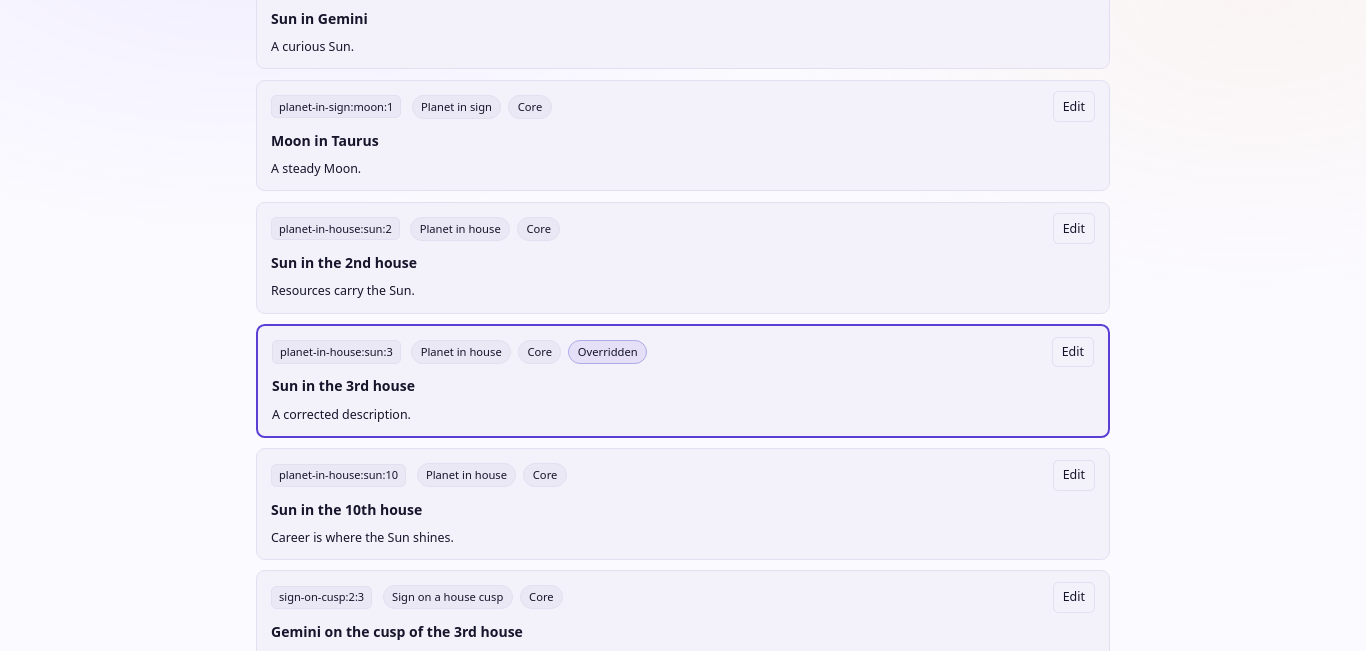
Scenario: CorpusOverridesPanel shows what an entry means (#428) › names the entry in the reset confirmation, with its key
The width and height of the screenshot is (1366, 651).
(page scrolled)
Click the button "Edit" in the row of "planet-in-house:sun:3" at (1073, 352), box left=1052, top=336, right=1094, bottom=367
(page scrolled)
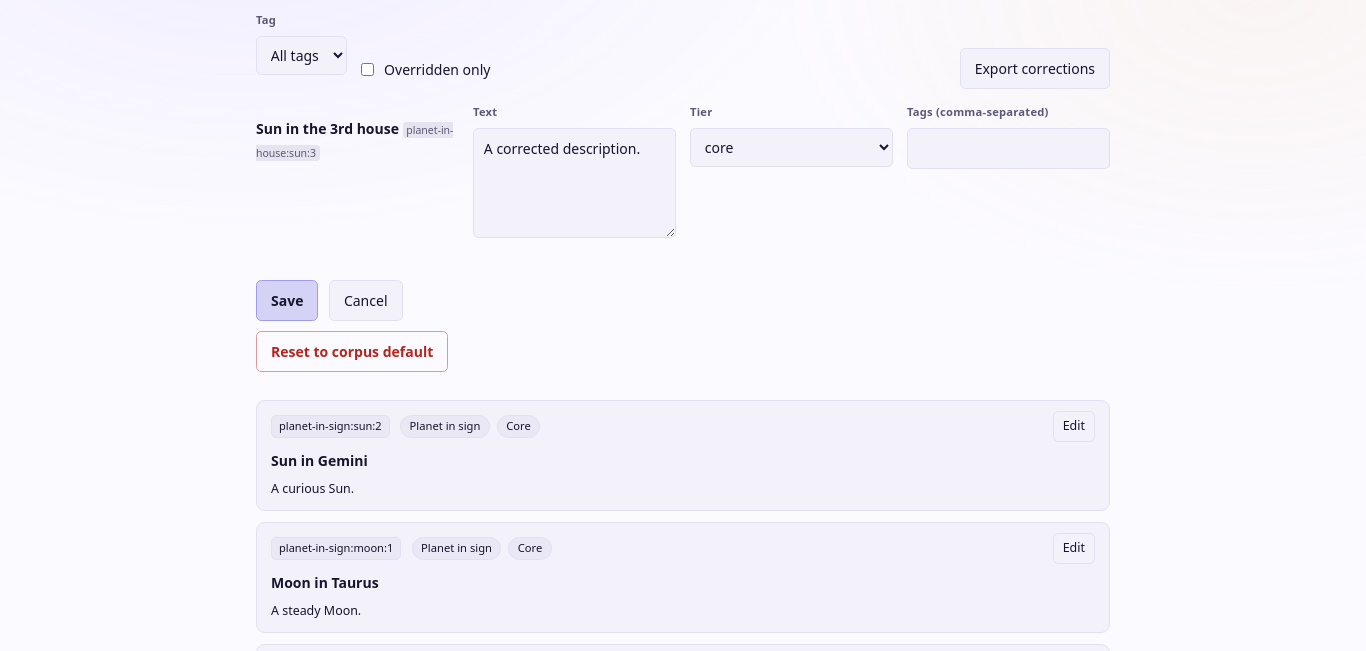
Click the button "Reset to corpus default" at (352, 351), box left=256, top=331, right=448, bottom=372
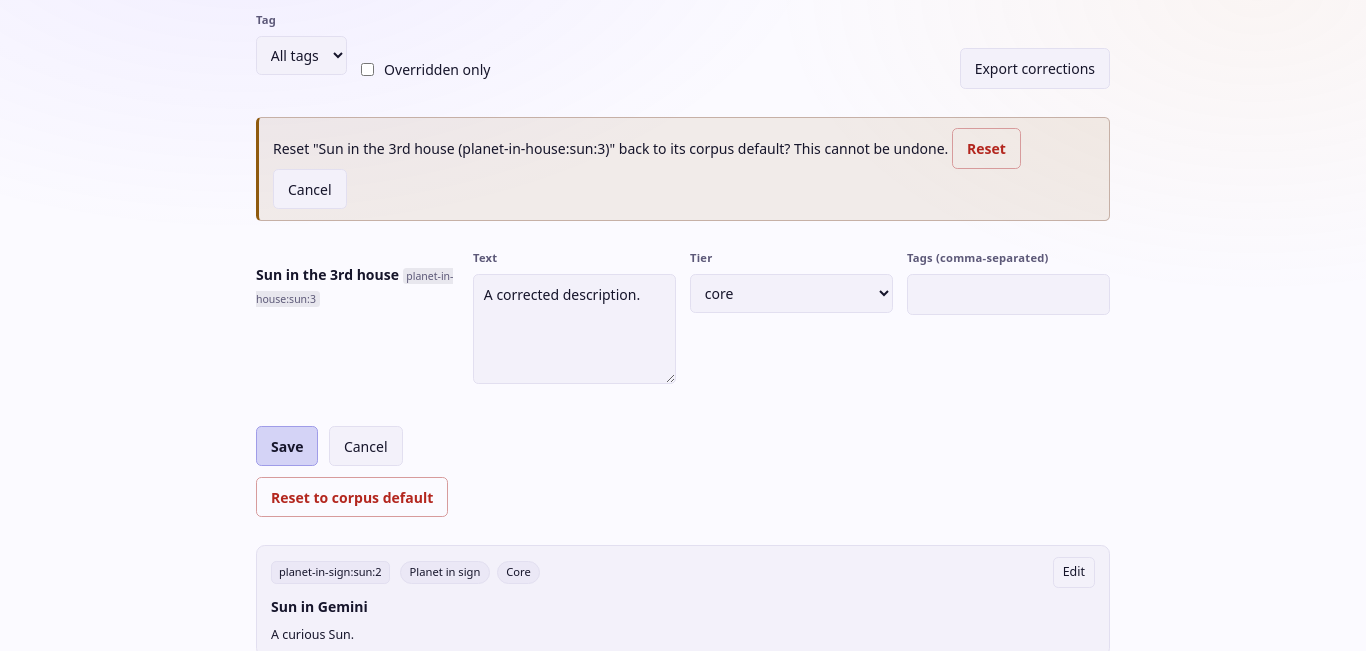
Check: the message with class "warning" shows "Reset \"Sun in the 3rd house (planet-in-house:sun:3)\"", box left=273, top=139, right=948, bottom=158
